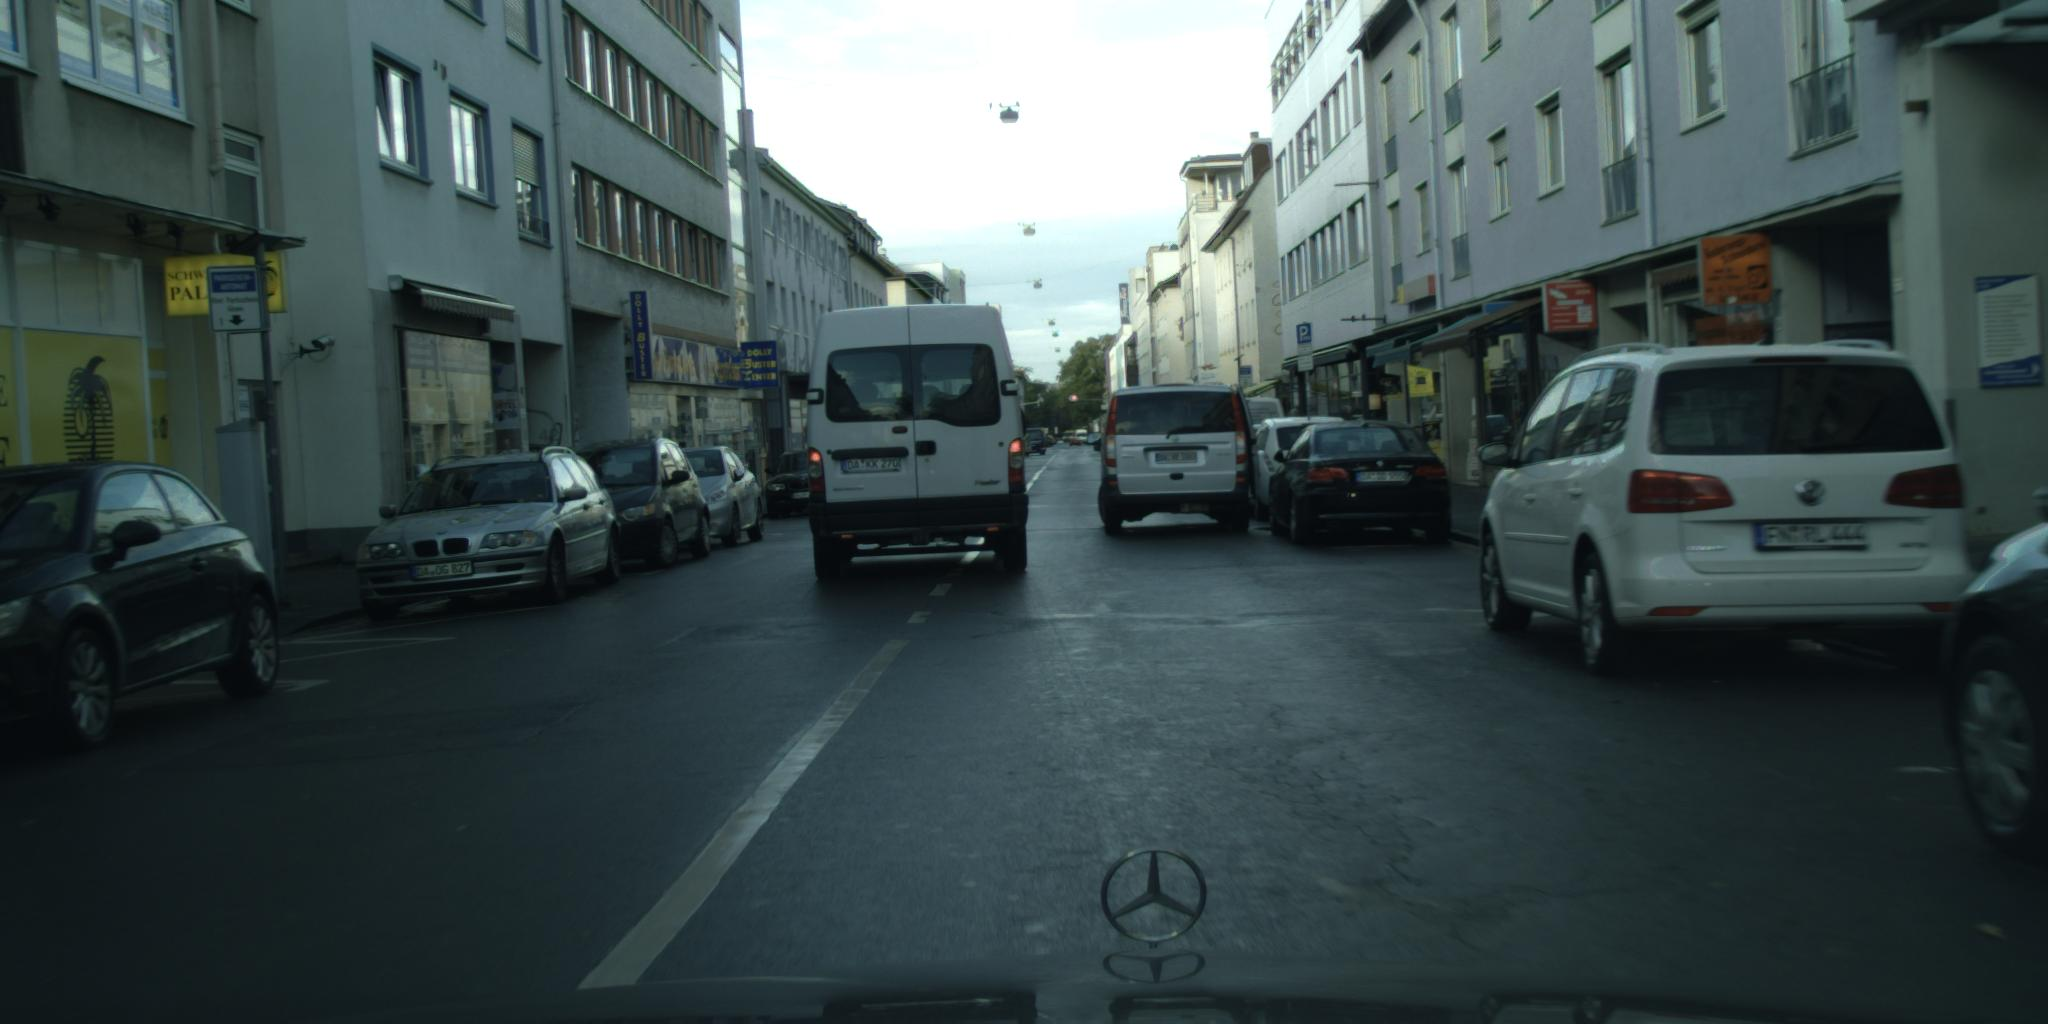car: (1477, 340, 1972, 684), (1, 460, 282, 758), (806, 306, 1033, 585), (357, 445, 624, 624), (1936, 521, 2048, 863), (1088, 381, 1258, 537), (1270, 421, 1454, 547), (560, 439, 713, 572), (1240, 417, 1347, 522), (680, 447, 767, 549), (1209, 396, 1288, 485), (765, 451, 825, 520), (1021, 428, 1051, 457), (1076, 430, 1089, 444), (1063, 431, 1078, 443), (1071, 440, 1081, 448)
